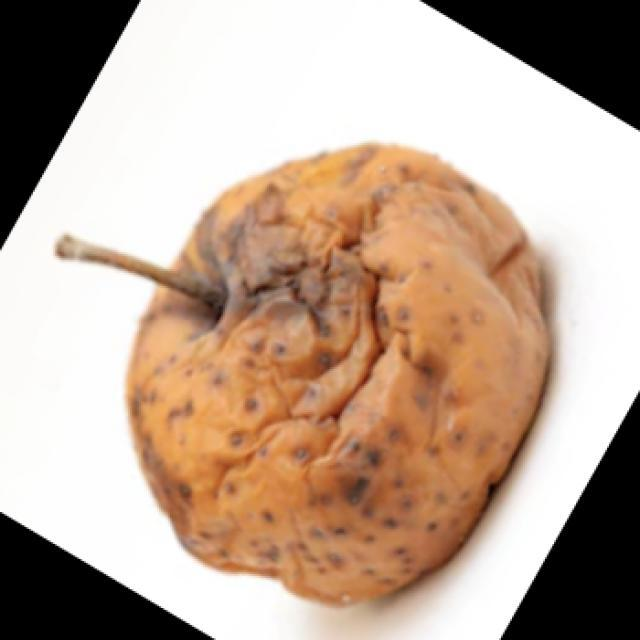Rotten: (163, 142, 560, 593)
